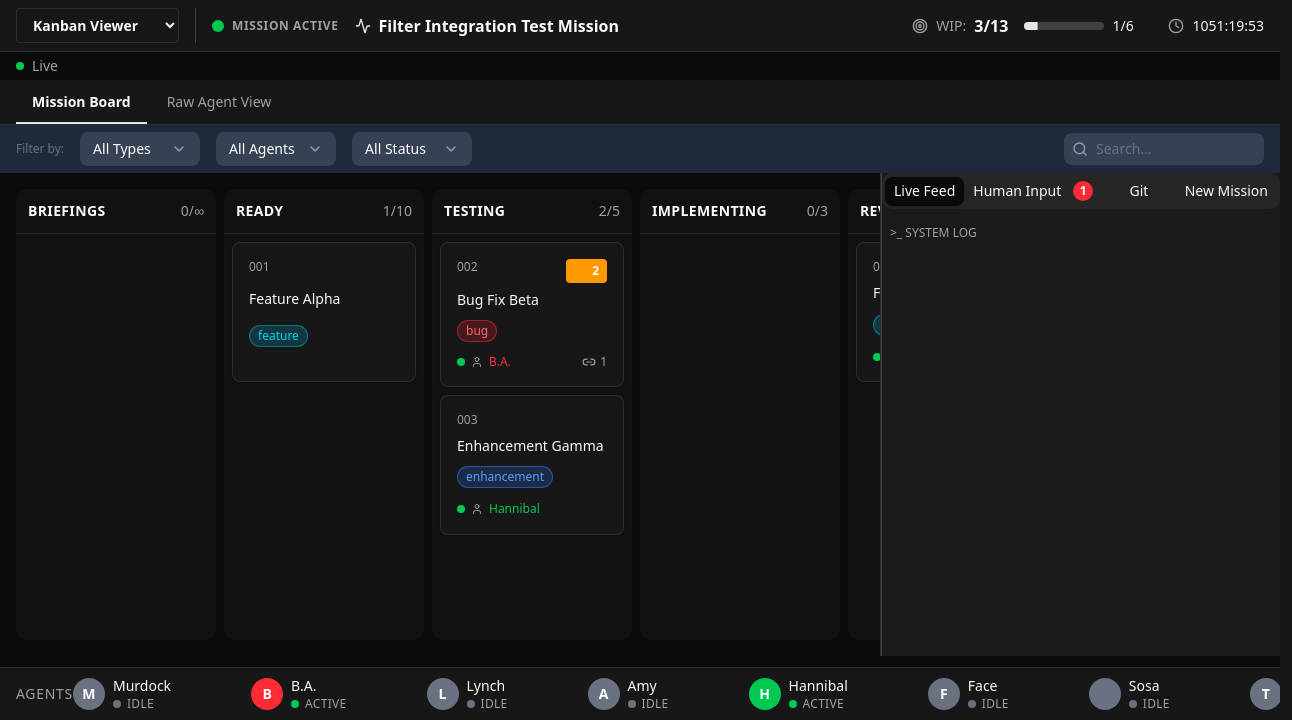
Test: Page Filter Integration (Item 009) › Filter changes update display without page reload › should update display immediately when filter is applied
Expected: the text "Feature Alpha" is shown, [249,288,340,308]
Expected: the text "Bug Fix Beta" is shown, [457,290,539,309]
Note: Apply filter - should update without reload
Step 1. Click the button with test id "type-filter-dropdown" → {"x": 140, "y": 149}, box [80,132,200,166]
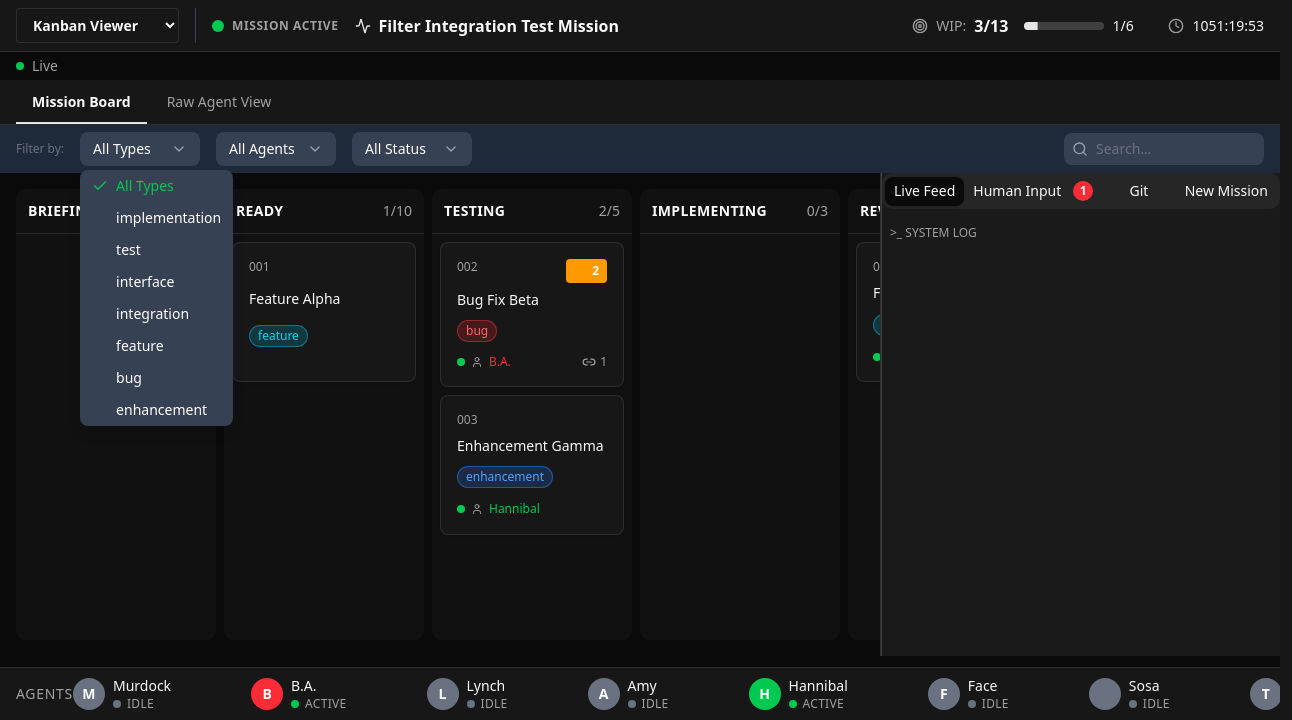
Step 2. Click the option "enhancement" → {"x": 162, "y": 410}, box [116,400,207,419]
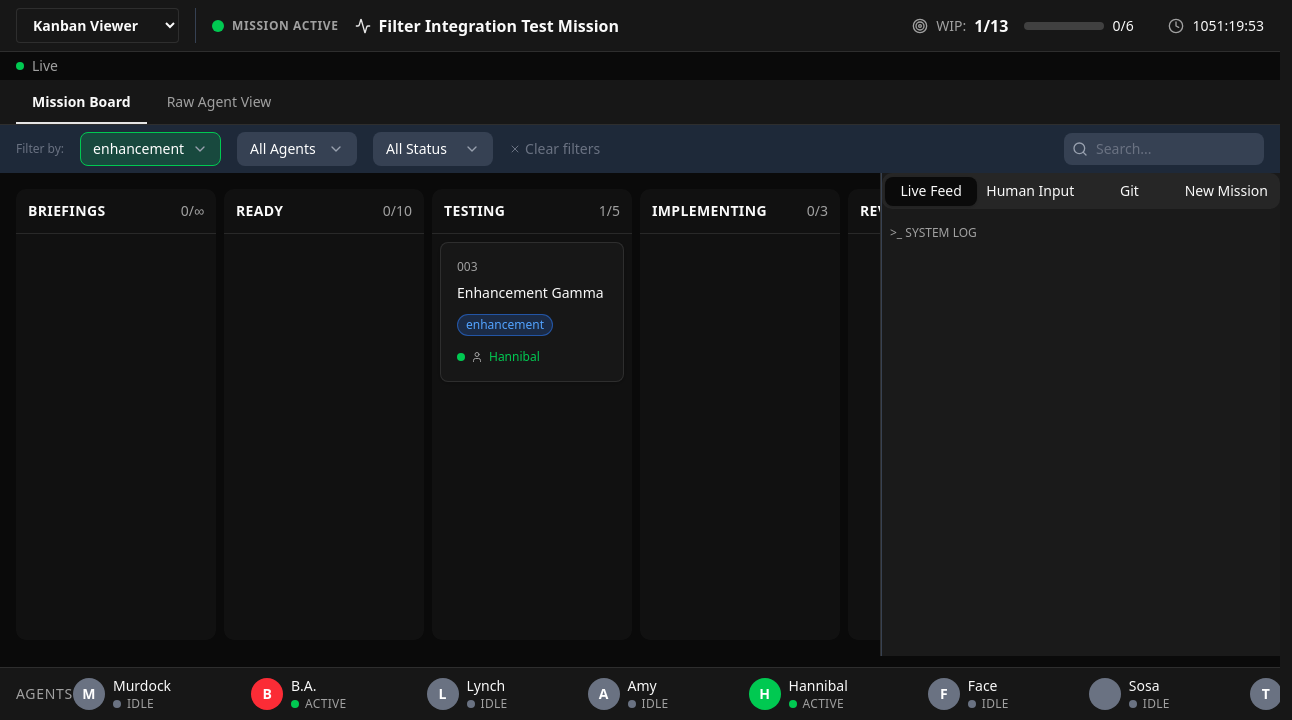
Expected: the text "Enhancement Gamma" is shown, [457,284,607,302]
Now the text "Feature Alpha" is gone
